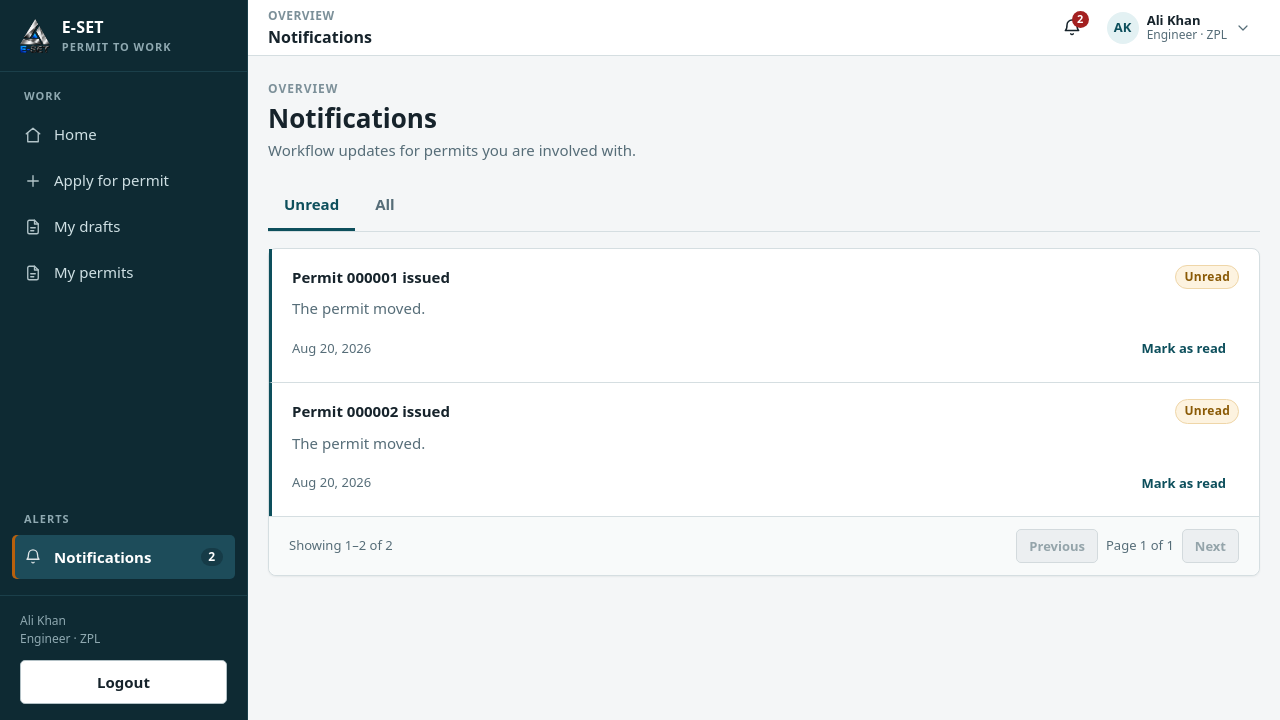
Test: the unread badge follows the unread list › keeps every notification in the All view - nothing is deleted
Expected: the text "Permit 000001 issued" is shown, x1=292 y1=266 x2=450 y2=288
Expected: the list item "Permit 000001 issued" is shown, x1=292 y1=267 x2=450 y2=287
What coordinates should you click on to do the following:
click the 1st button "Mark as read"
I would click on:
 (1184, 349)
Its box is x1=1128 y1=332 x2=1239 y2=366.
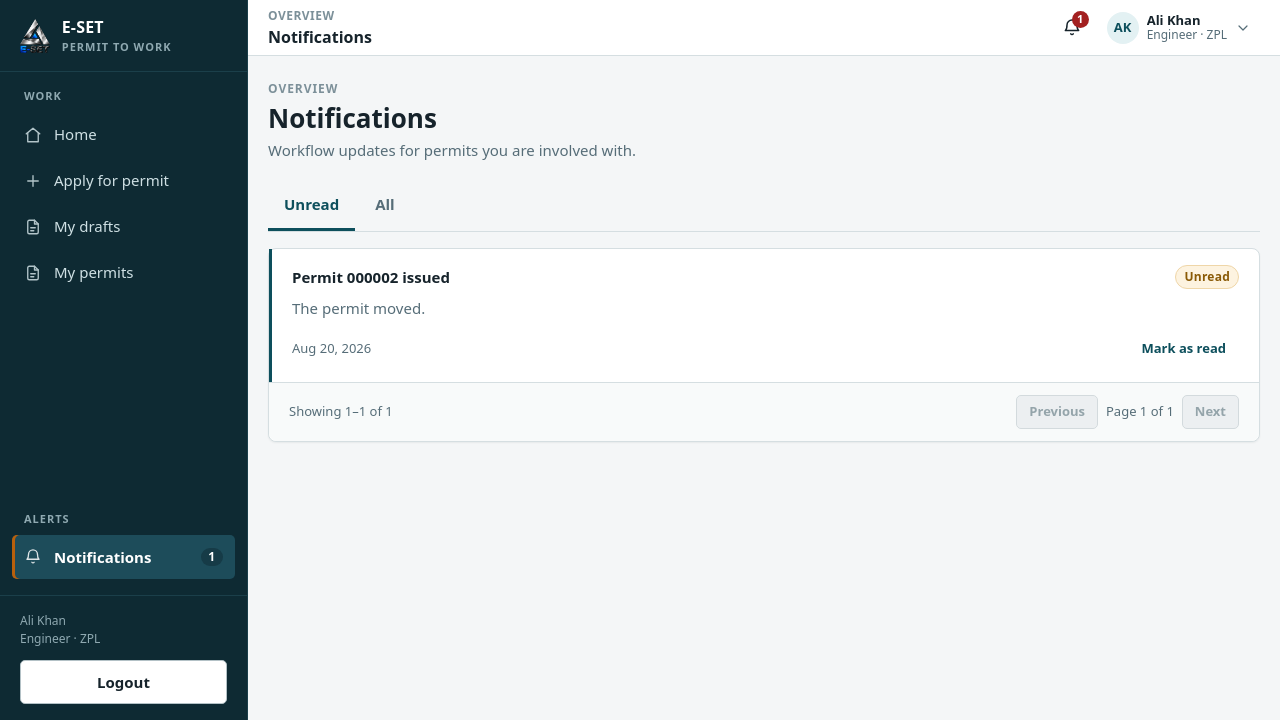
Expected: the list item "Permit 000002 issued" is shown, x1=292 y1=267 x2=450 y2=287
What coordinates should you click on to do the following:
click the button "Mark as read"
I would click on:
 (1184, 349)
Its box is x1=1128 y1=332 x2=1239 y2=366.
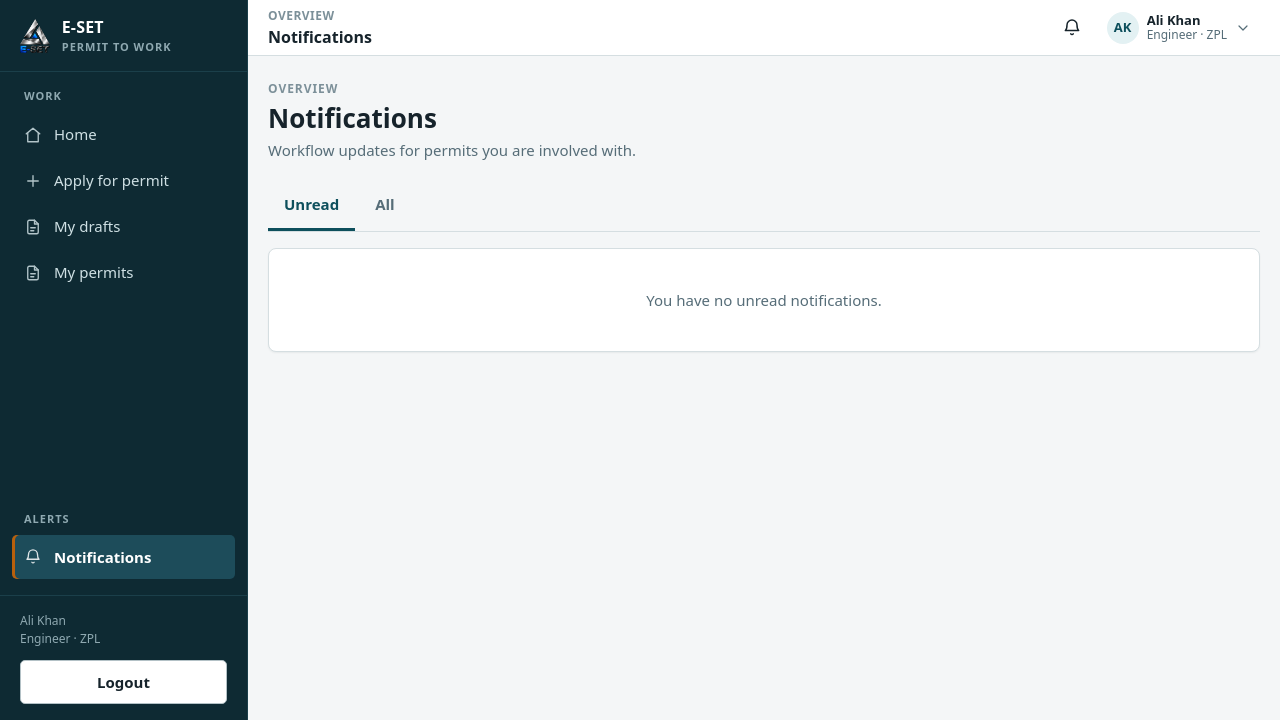
Expected: the text "You have no unread notifications." is shown, x1=646 y1=288 x2=882 y2=311
What coordinates should you click on to do the following:
click the tab "All"
I would click on:
 (385, 206)
Its box is x1=359 y1=181 x2=411 y2=230.
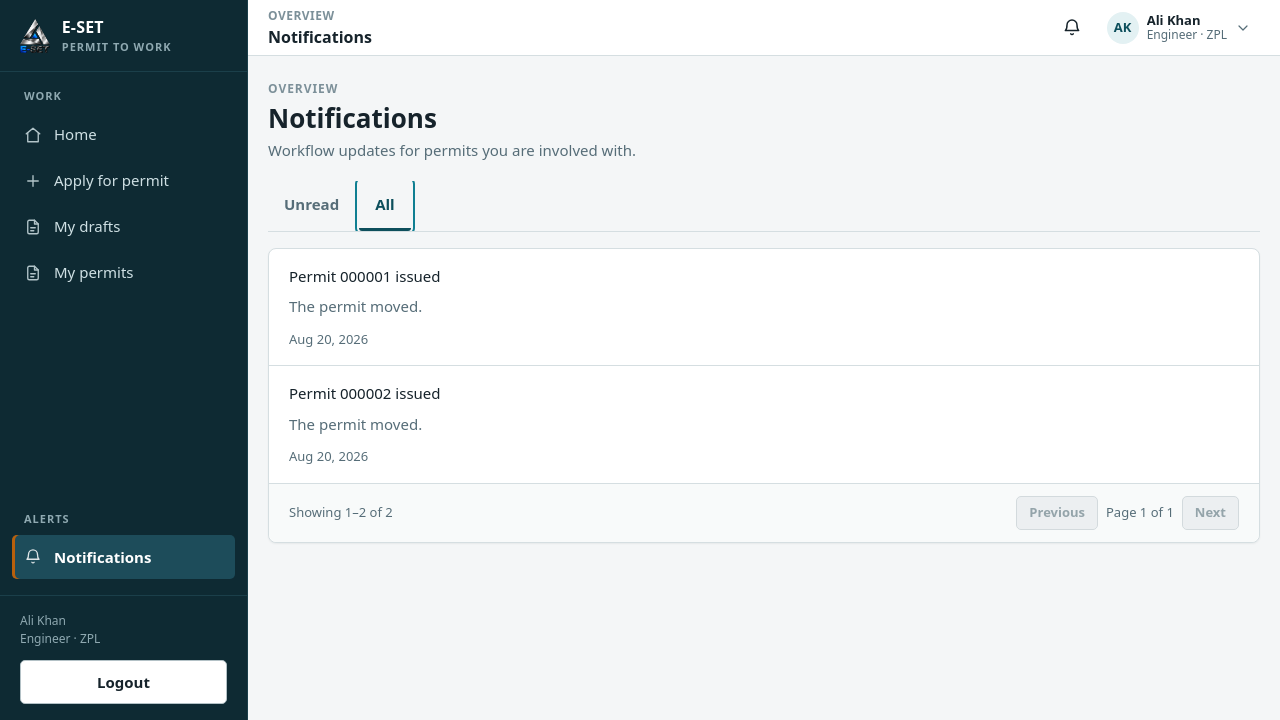
Expected: the button "Mark as read" is not shown
Expected: the text "Permit 000001 issued" is shown, x1=289 y1=264 x2=440 y2=287
Expected: the text "Permit 000002 issued" is shown, x1=289 y1=382 x2=440 y2=404
